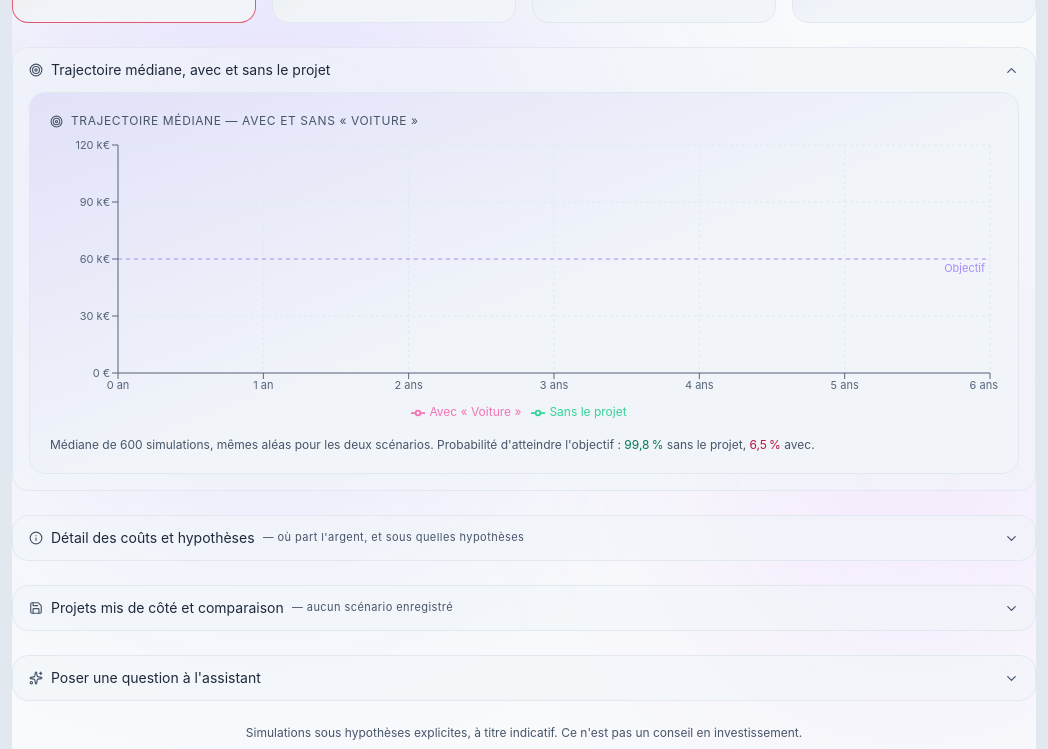
Scenario: Projet › liste les hypothèses appliquées plutôt que de les taire
(page scrolled)
Click the button "Détail des coûts" at (524, 538), box x1=13 y1=516 x2=1035 y2=560
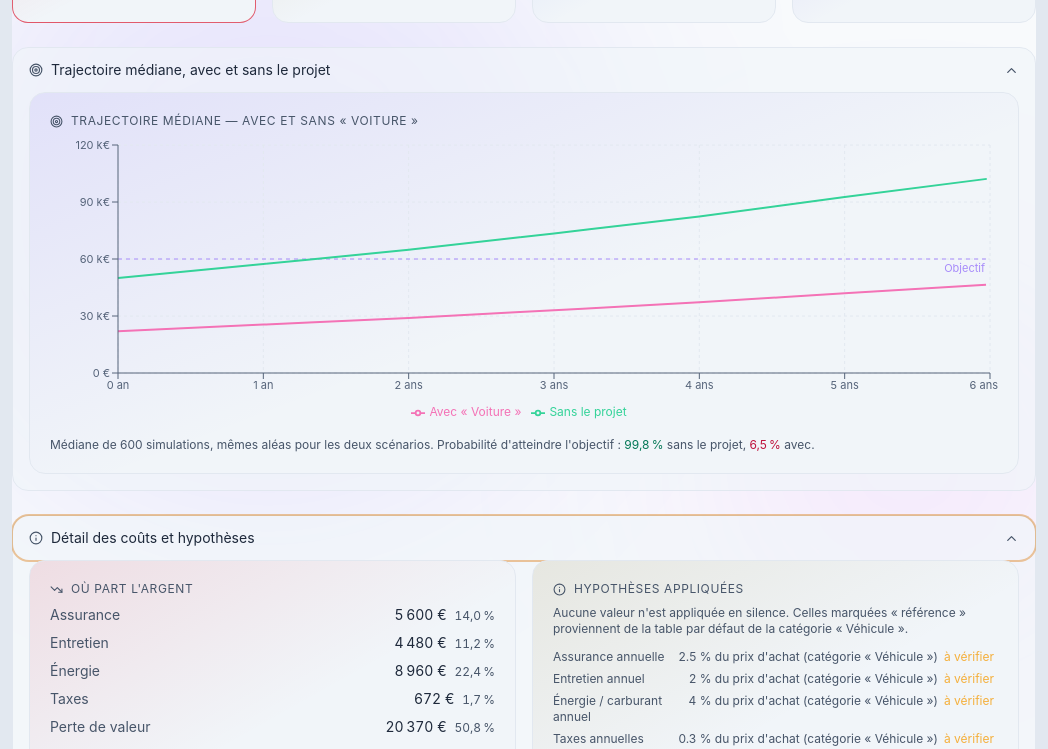
Expected: the text "Entretien annuel" is shown, x1=553 y1=671 x2=645 y2=687
Expected: the text "à vérifier" in the row of "Assurance annuelle" is shown, x1=944 y1=649 x2=994 y2=664
